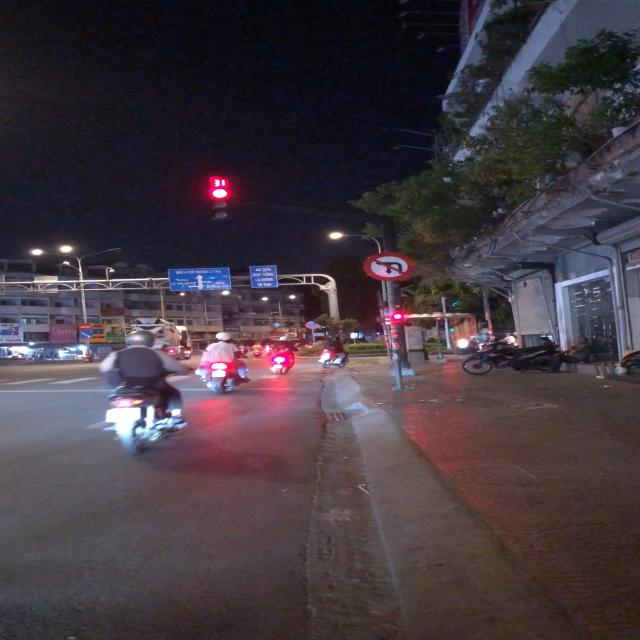Bien bao cam re trai va quay dau: (362, 252, 417, 282)
